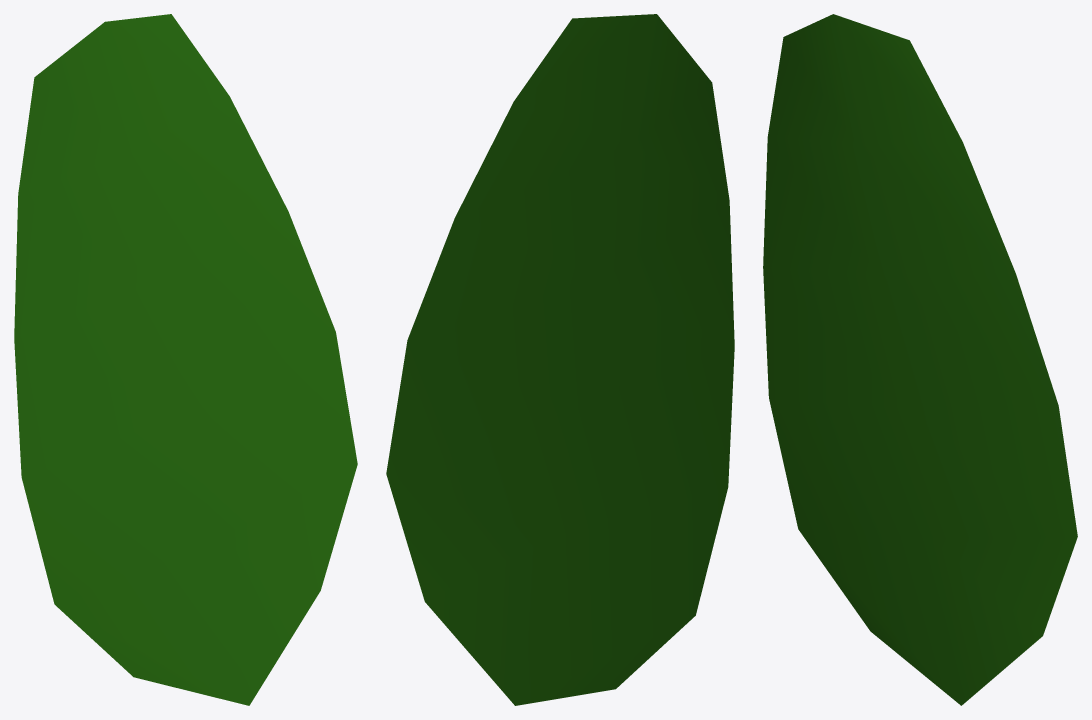
The model's file is lovebird_feather_flight_tertiary_016.001.obj.
3 renders of one model, left to right at view 1: azimuth 30°, elevation 25°; view 2: azimuth 150°, elevation 25°; view 3: azimuth 330°, elevation 25°, orthographic. The views are drawn at different scales.
Visible parts, largest first — view 1: feather_flight_tertiary_016.001; view 2: feather_flight_tertiary_016.001; view 3: feather_flight_tertiary_016.001.
Boxes of the visible parts, x1,y1,x2,y2 form: feather_flight_tertiary_016.001: (14,14,357,705); feather_flight_tertiary_016.001: (386,14,734,705); feather_flight_tertiary_016.001: (763,14,1077,705).
Size of the model in its own units: 0.00381 by 0.00761 by 0.000209.
